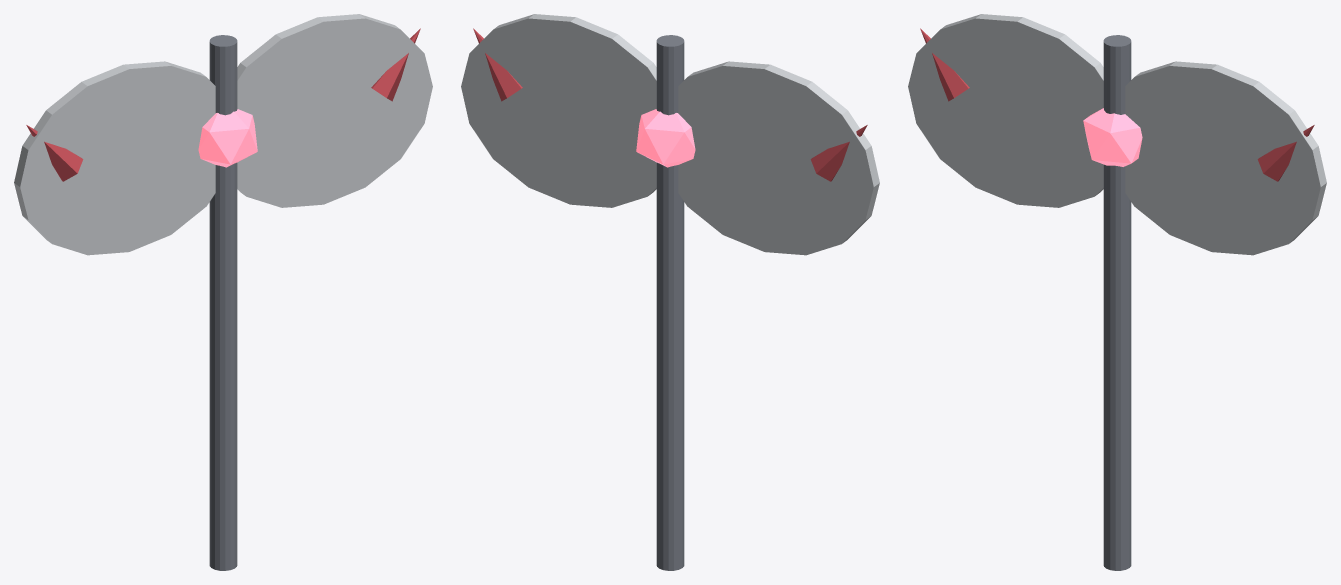
File: chaos_dragon_axe.glb
3 renders of one model, left to right at view 1: azimuth 30°, elevation 25°; view 2: azimuth 150°, elevation 25°; view 3: azimuth 330°, elevation 25°, orthographic.
Visible parts, largest first — view 1: Cylinder.001, Cylinder.002, Cylinder, Icosphere, Cone, Cone.001; view 2: Cylinder.001, Cylinder.002, Cylinder, Icosphere, Cone, Cone.001; view 3: Cylinder.002, Cylinder.001, Cylinder, Icosphere, Cone.001, Cone.
Part boxes in pixels (x1,y1,x2,y2): Cylinder.001: [14, 61, 215, 255]; Cylinder.002: [237, 14, 432, 207]; Cylinder: [209, 35, 237, 570]; Icosphere: [198, 109, 257, 167]; Cone: [26, 125, 83, 181]; Cone.001: [371, 28, 420, 101]; Cylinder.001: [678, 61, 879, 255]; Cylinder.002: [461, 14, 656, 207]; Cylinder: [656, 35, 684, 570]; Icosphere: [636, 109, 695, 167]; Cone: [810, 125, 867, 181]; Cone.001: [473, 28, 522, 101]; Cylinder.002: [1125, 61, 1326, 255]; Cylinder.001: [908, 14, 1103, 207]; Cylinder: [1103, 35, 1131, 570]; Icosphere: [1083, 108, 1142, 166]; Cone.001: [1257, 125, 1314, 181]; Cone: [920, 28, 969, 101].
Size of the model in its own units: 1.36 by 1.65 by 0.1871.
